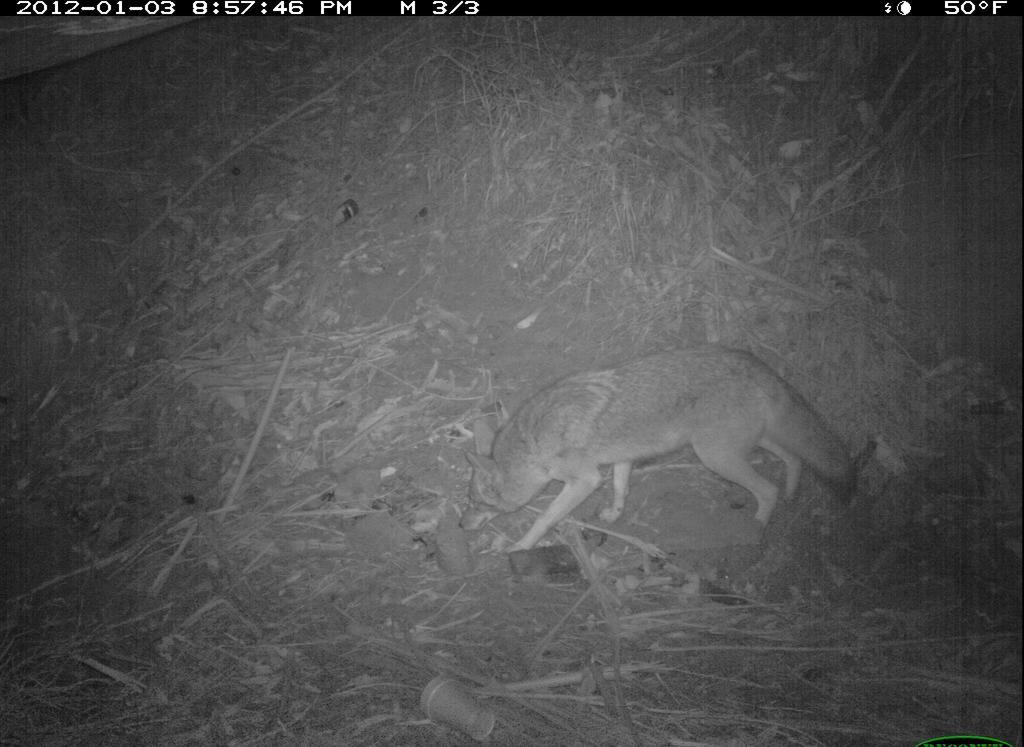coyote: (468, 342, 871, 573)
